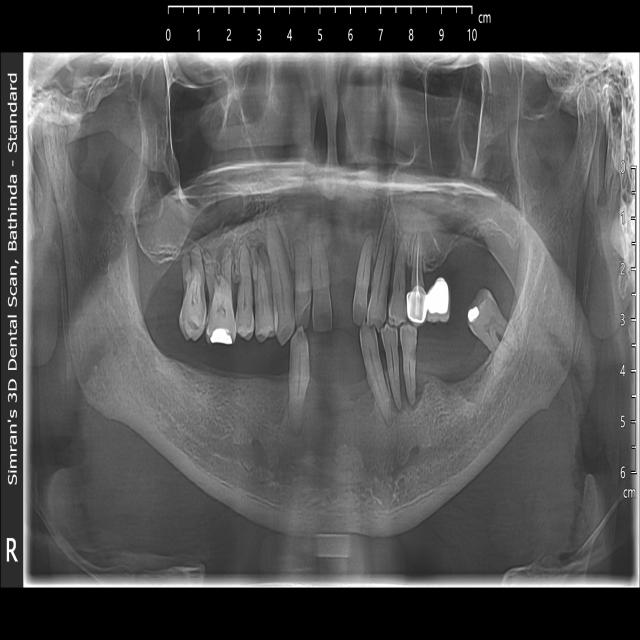Missing teeth: (168, 349, 281, 413), (315, 359, 366, 421)
